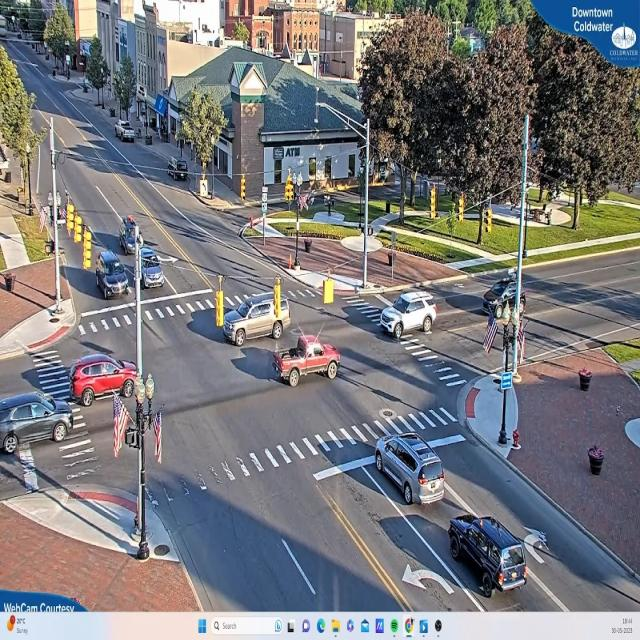car: (449, 514, 533, 594), (373, 432, 445, 506), (0, 392, 78, 458), (268, 336, 342, 389), (226, 290, 289, 345), (70, 357, 139, 404), (380, 293, 438, 336), (477, 278, 527, 320), (94, 250, 131, 306), (136, 251, 168, 290), (117, 122, 137, 144)
